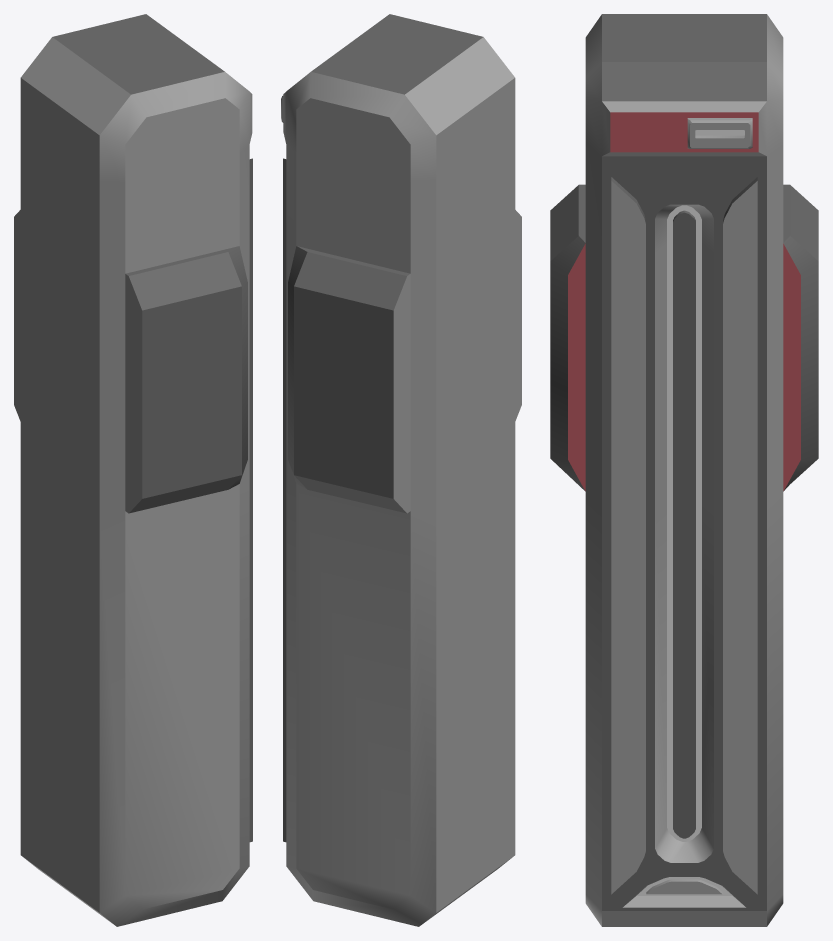
Rendered from WallLaser_base.fbx.
3 renders of one model, left to right at view 1: azimuth 30°, elevation 25°; view 2: azimuth 150°, elevation 25°; view 3: azimuth 270°, elevation 25°, orthographic. The views are drawn at different scales.
Visible parts, largest first — view 1: Piska2; view 2: Piska2; view 3: Piska2.
Part boxes in pixels (x1,y1,x2,y2): Piska2: (14,14,252,926); Piska2: (281,14,521,926); Piska2: (550,14,818,926).
Bounding box in the file's own units: 85.23 × 414 × 116.
